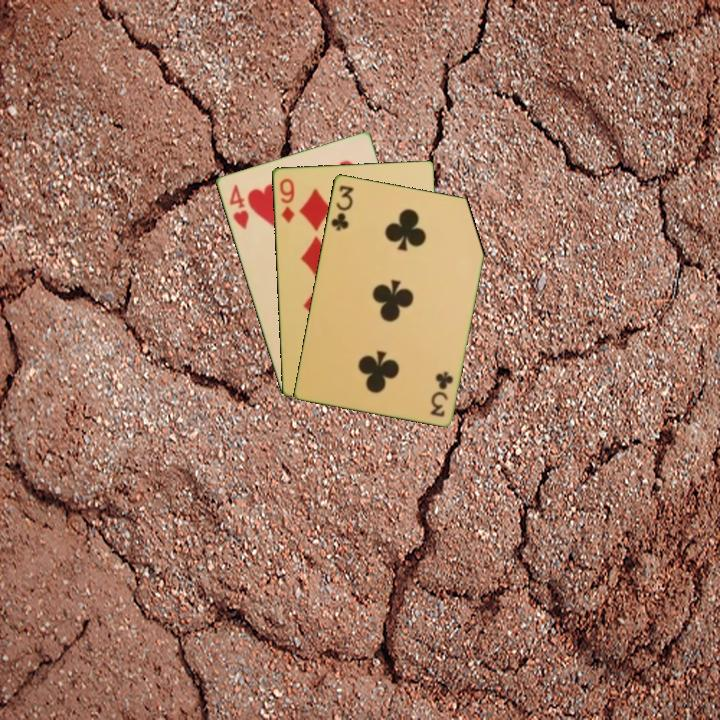3c: (327, 181, 356, 233), (427, 368, 456, 420)
4h: (225, 180, 251, 232)
9d: (276, 174, 297, 225)
